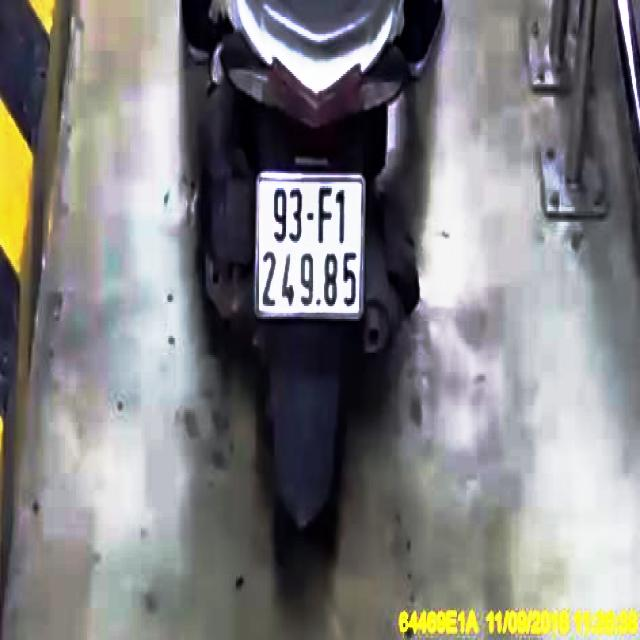license_plate: (256, 170, 365, 319)
